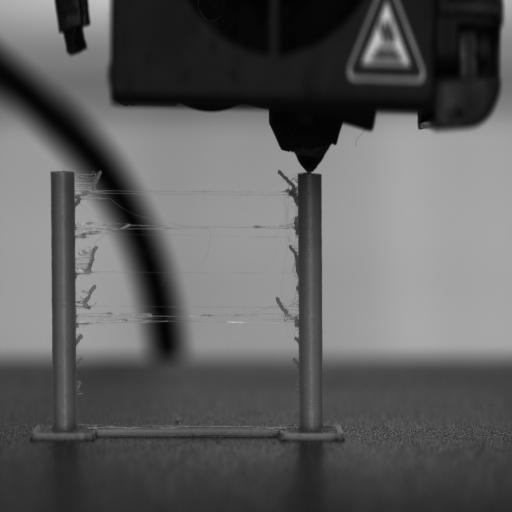spaghetti_and_stringing: (278, 205, 302, 314), (82, 190, 157, 222), (277, 174, 299, 237), (75, 243, 98, 275), (77, 284, 97, 308), (277, 170, 298, 192), (201, 226, 212, 256), (90, 169, 102, 191), (75, 334, 83, 346), (292, 357, 300, 369), (76, 357, 83, 369), (76, 380, 82, 393)
